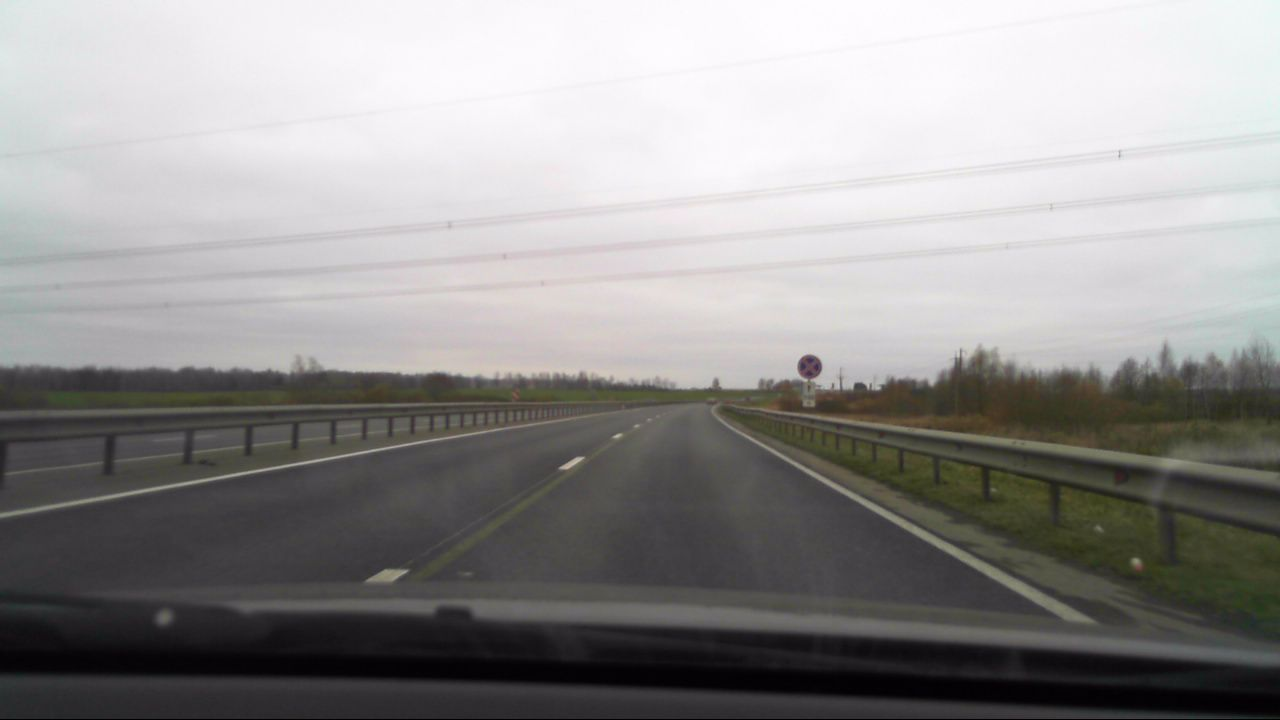No Parking: (796, 354, 823, 380)
